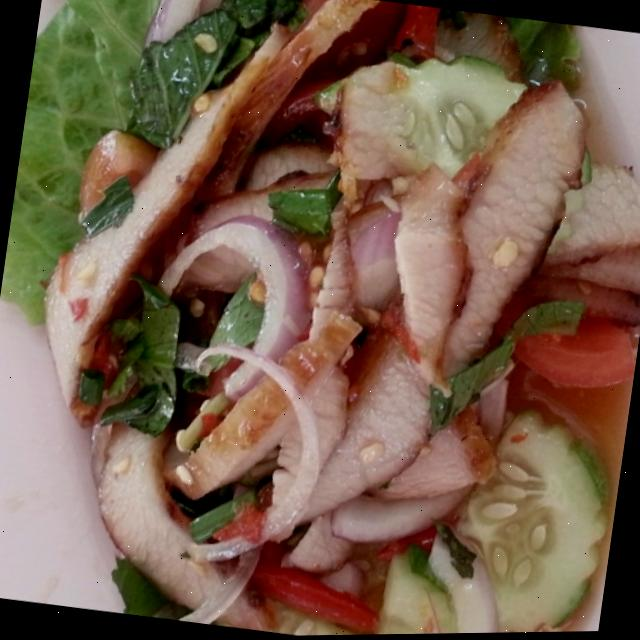猪肉菜式: (15, 0, 640, 640)
